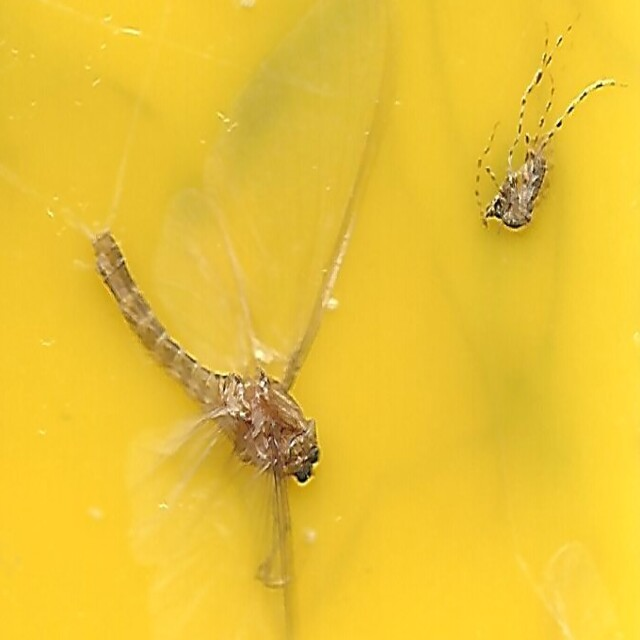Ephemeroptera: (94, 219, 321, 499)
Nematocera: (490, 141, 546, 235)
